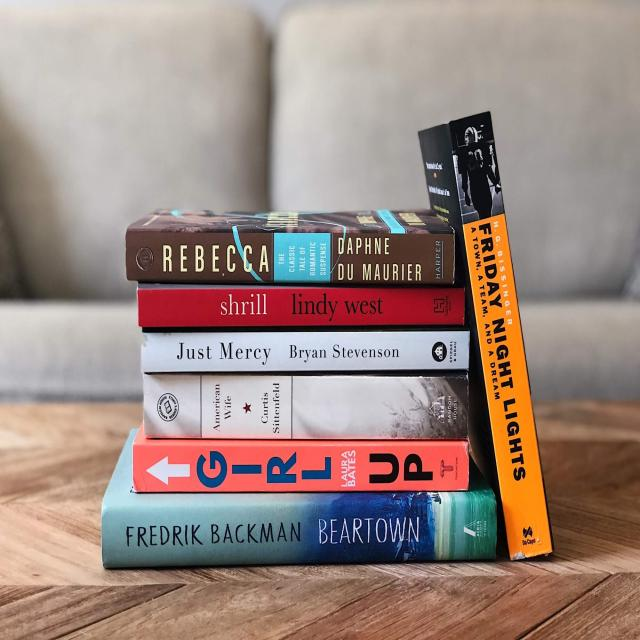Books: (419, 112, 552, 558), (101, 430, 496, 568), (126, 210, 454, 285), (132, 427, 469, 493), (144, 372, 469, 440), (138, 284, 465, 328), (141, 330, 469, 373)
